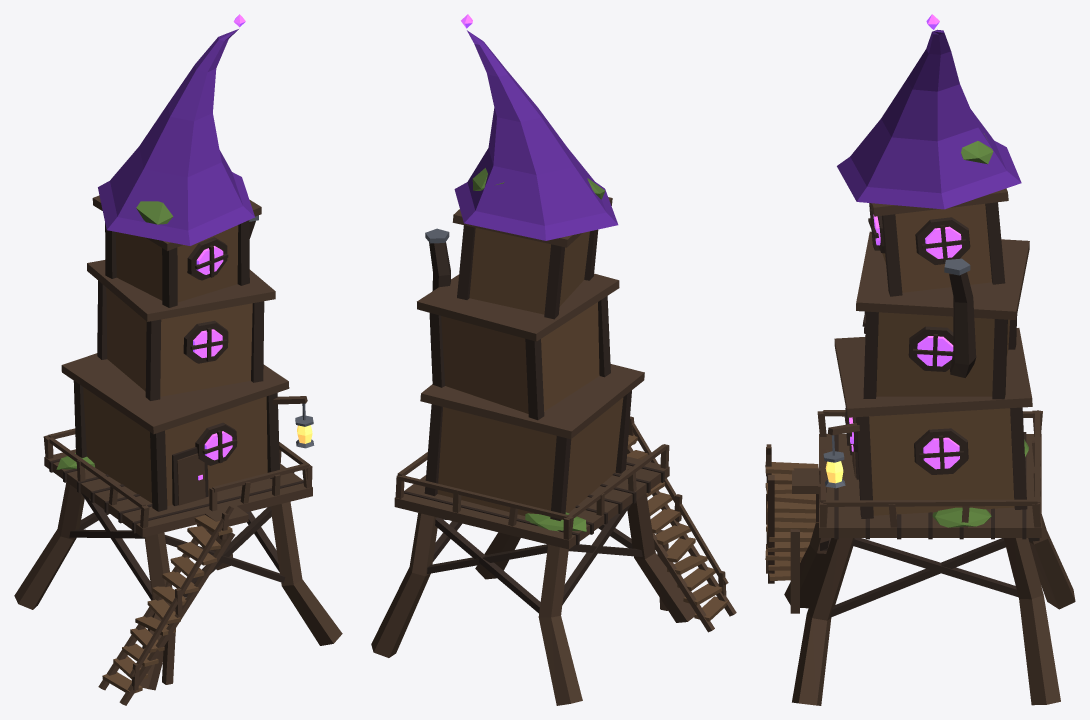
File: Swamp_3_WitchTower.fbx
The picture shows the model from 3 angles, left to right: view 1: azimuth 30°, elevation 25°; view 2: azimuth 150°, elevation 25°; view 3: azimuth 270°, elevation 25°; orthographic projection. The views are drawn at different scales.
Visible parts, largest first — view 1: Swamp_3_WitchTower__Swamp_Bark, Swamp_3_WitchTower__Swamp_Wood, Swamp_3_WitchTower__Swamp_BarkDark, Swamp_3_WitchTower__Swamp_MagicDark, Swamp_3_WitchTower__Neon_Swamp_Magic, Swamp_3_WitchTower__Swamp_Moss; view 2: Swamp_3_WitchTower__Swamp_Wood, Swamp_3_WitchTower__Swamp_Bark, Swamp_3_WitchTower__Swamp_MagicDark, Swamp_3_WitchTower__Swamp_BarkDark, Swamp_3_WitchTower__Swamp_Moss; view 3: Swamp_3_WitchTower__Swamp_Bark, Swamp_3_WitchTower__Swamp_Wood, Swamp_3_WitchTower__Swamp_BarkDark, Swamp_3_WitchTower__Swamp_MagicDark, Swamp_3_WitchTower__Neon_Swamp_Magic, Swamp_3_WitchTower__Swamp_Moss, Swamp_3_WitchTower__Common_Iron.
Part boxes in pixels (x1,y1,x2,y2): Swamp_3_WitchTower__Swamp_Bark: [14, 195, 342, 705]; Swamp_3_WitchTower__Swamp_Wood: [83, 225, 267, 693]; Swamp_3_WitchTower__Swamp_BarkDark: [49, 220, 303, 600]; Swamp_3_WitchTower__Swamp_MagicDark: [98, 29, 254, 245]; Swamp_3_WitchTower__Neon_Swamp_Magic: [193, 14, 245, 480]; Swamp_3_WitchTower__Swamp_Moss: [56, 201, 173, 469]; Swamp_3_WitchTower__Swamp_Wood: [437, 228, 728, 621]; Swamp_3_WitchTower__Swamp_Bark: [371, 197, 736, 705]; Swamp_3_WitchTower__Swamp_MagicDark: [454, 30, 618, 240]; Swamp_3_WitchTower__Swamp_BarkDark: [404, 225, 664, 613]; Swamp_3_WitchTower__Swamp_Moss: [472, 168, 604, 531]; Swamp_3_WitchTower__Swamp_Bark: [766, 188, 1075, 705]; Swamp_3_WitchTower__Swamp_Wood: [765, 203, 1014, 580]; Swamp_3_WitchTower__Swamp_BarkDark: [820, 202, 1039, 617]; Swamp_3_WitchTower__Swamp_MagicDark: [837, 29, 1021, 209]; Swamp_3_WitchTower__Neon_Swamp_Magic: [849, 14, 961, 469]; Swamp_3_WitchTower__Swamp_Moss: [932, 133, 1028, 527]; Swamp_3_WitchTower__Common_Iron: [823, 258, 970, 488].
Size of the model in its own units: 38.95 by 95.1 by 39.5.
